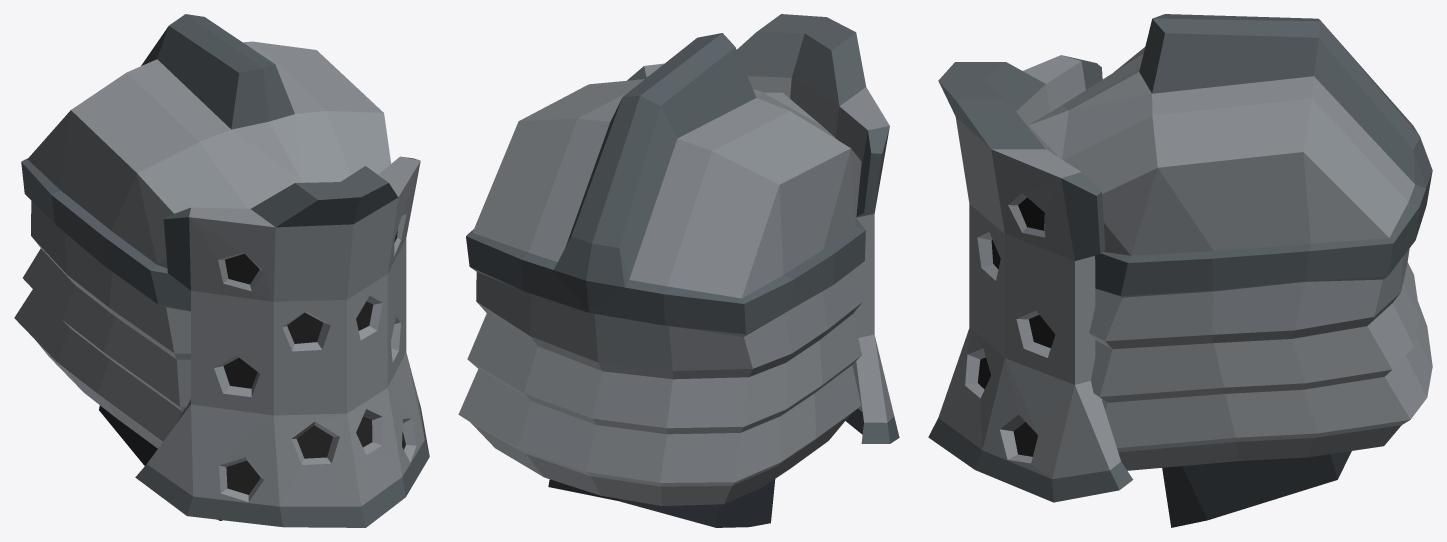
The model's file is Chr_Head_No_Elements_Male_13_Static.fbx.
3 views of the same model, side by side, from view 1: azimuth 30°, elevation 25°; view 2: azimuth 150°, elevation 25°; view 3: azimuth 270°, elevation 25° (orthographic). The views are drawn at different scales.
Parts seen in each view (by area): view 1: Chr_Head_No_Elements_Male_13_Static; view 2: Chr_Head_No_Elements_Male_13_Static; view 3: Chr_Head_No_Elements_Male_13_Static.
Boxes of the visible parts, x1,y1,x2,y2 form: Chr_Head_No_Elements_Male_13_Static: [14, 14, 429, 527]; Chr_Head_No_Elements_Male_13_Static: [458, 14, 899, 527]; Chr_Head_No_Elements_Male_13_Static: [928, 14, 1432, 527].
Size of the model in its own units: 0.251 by 0.3797 by 0.3522.
